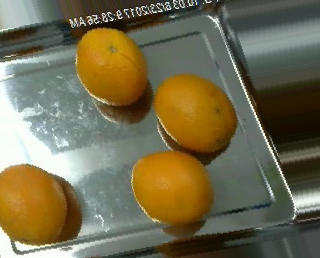Orange: (154, 72, 237, 152), (130, 149, 213, 226), (75, 26, 148, 106), (1, 163, 68, 247)
